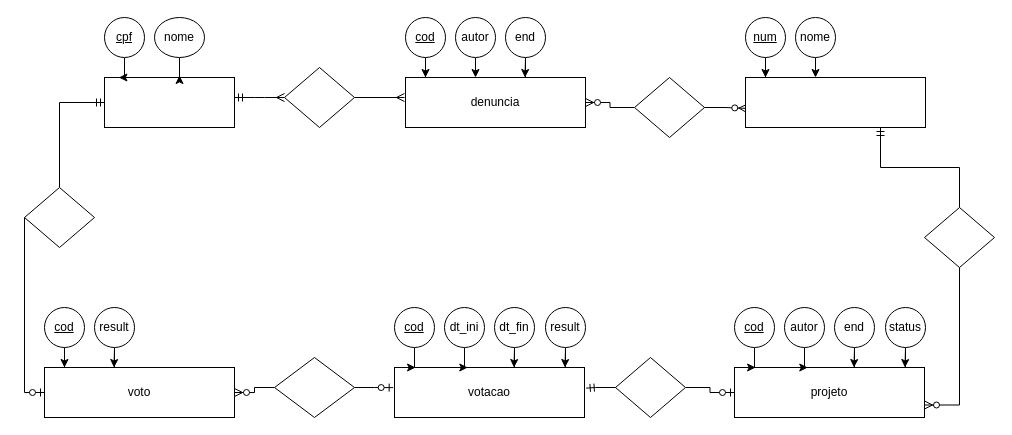
Image size: 1012x435. Some labels were removed from this diagram. The shapes that lost their labels are listed below. From the top down, each one's box as (x1, y1, x2, y2) in pixels, then its label:
(104, 76, 234, 128): populacao
(284, 66, 354, 128): Registra
(634, 76, 704, 138): consulta
(744, 76, 926, 128): vereador
(24, 186, 94, 248): faz
(924, 206, 994, 268): cria
(274, 356, 354, 418): contabilizacao
(614, 356, 686, 418): submete-se
